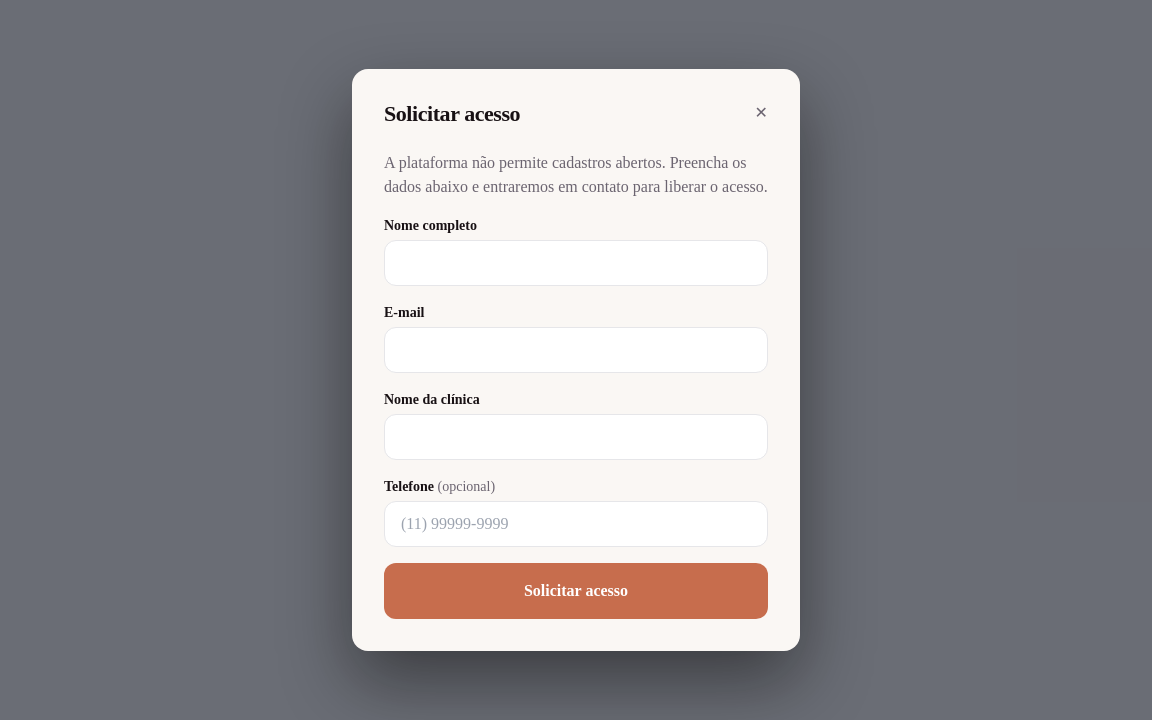
Test case: AccessRequestModal (integration) › shows an error message when the request fails
The width and height of the screenshot is (1152, 720).
In the field labelled "Nome completo": [576, 263] box [384,240,768,286], type "Ana Costa"
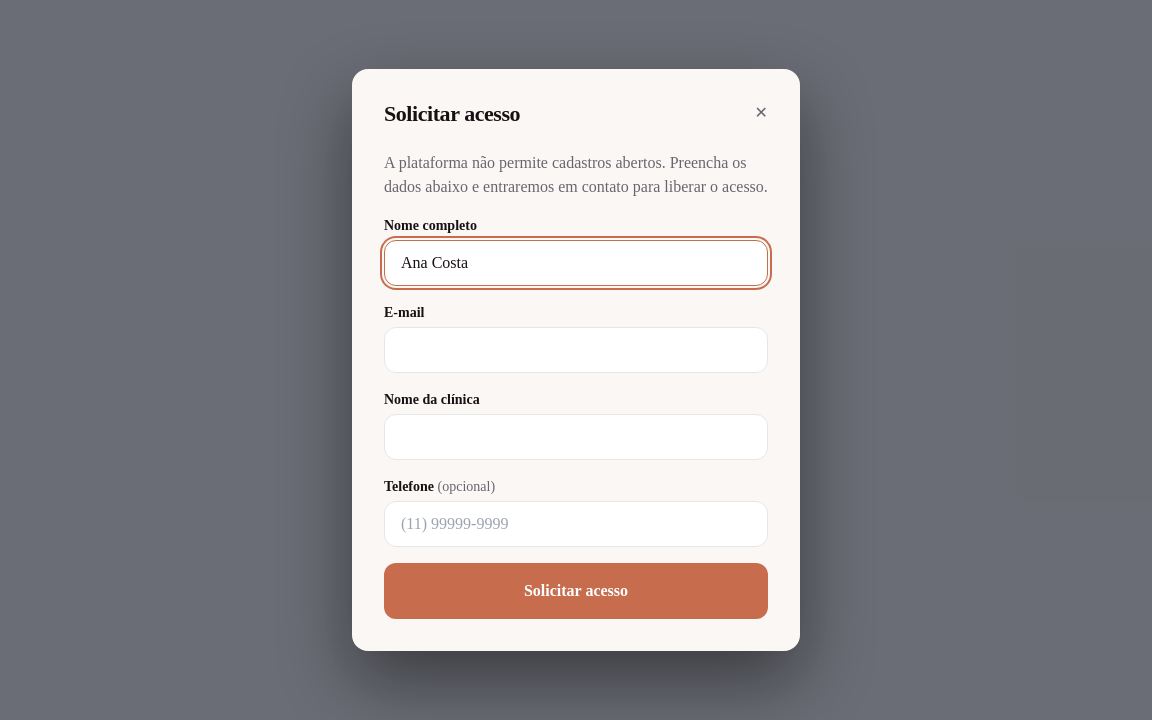
In the field labelled "E-mail": [576, 350] box [384,327,768,373], type "ana@clinica.com"
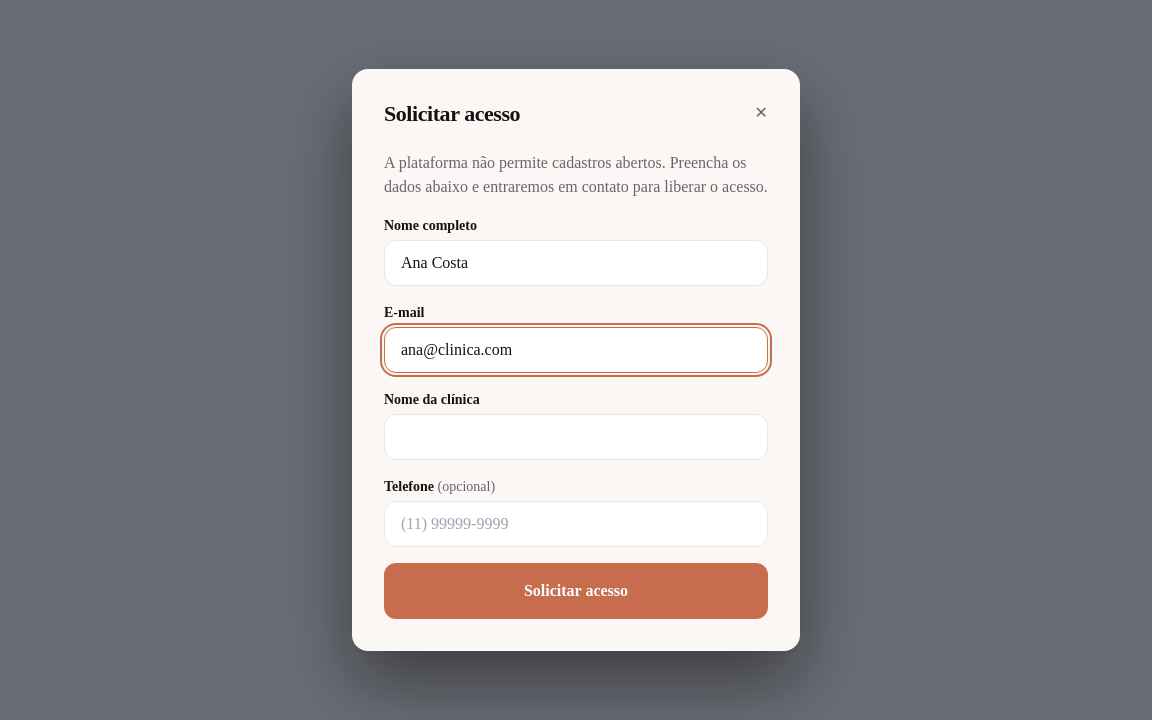
In the field labelled "Nome da clínica": [576, 437] box [384,414,768,460], type "Clínica do Vale"
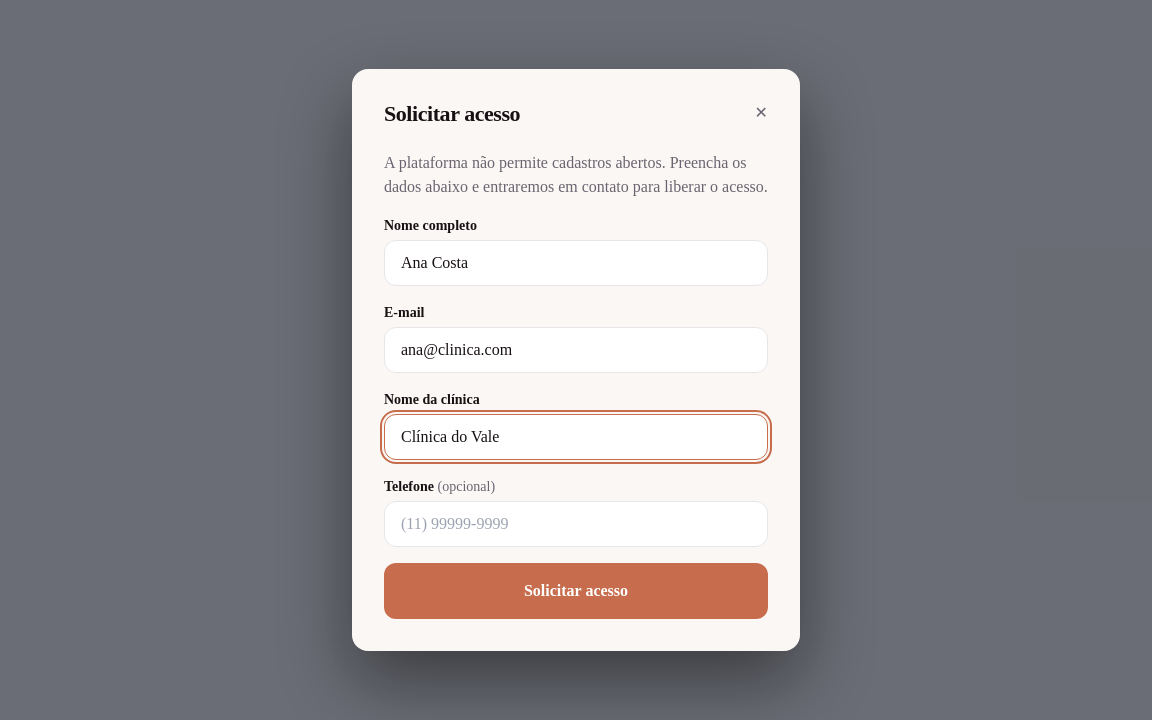
Click the button "Solicitar acesso": [576, 591] box [384,563,768,619]
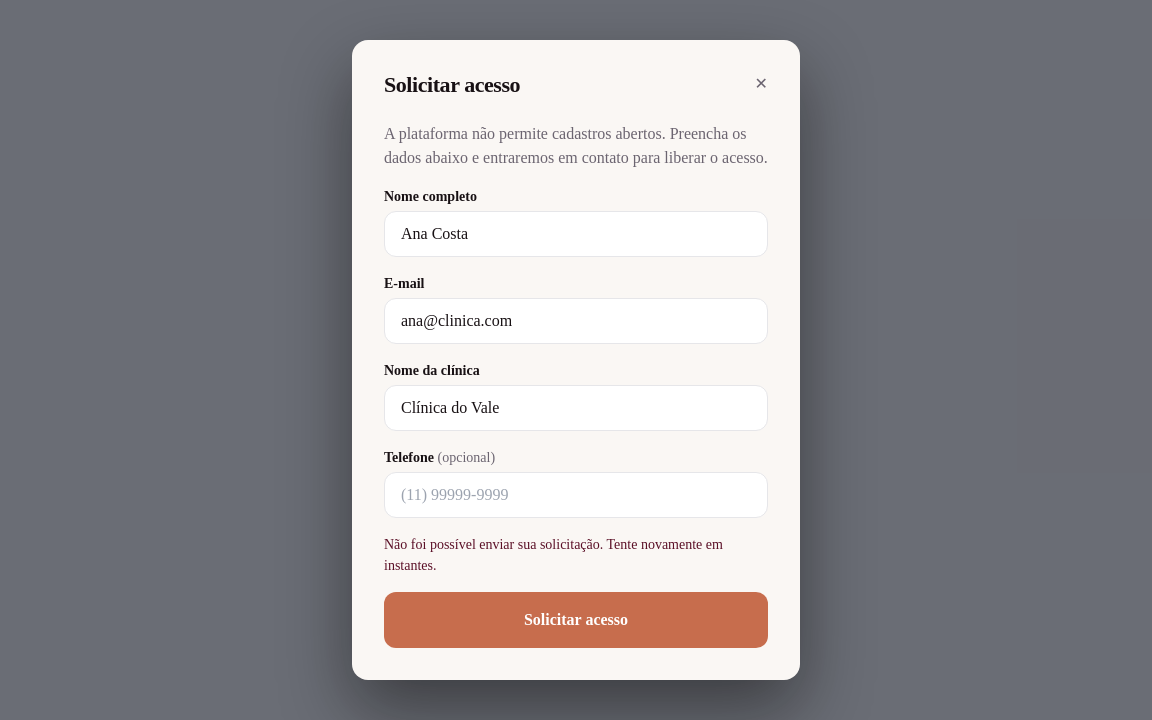
Now the text with test id "access-request-error" is shown, box [384,534,768,576]
